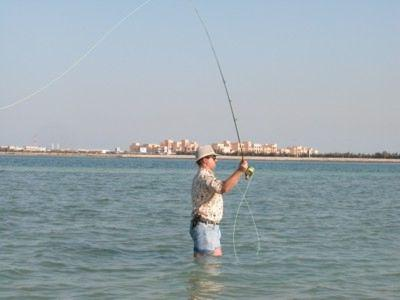person: (191, 144, 248, 256)
